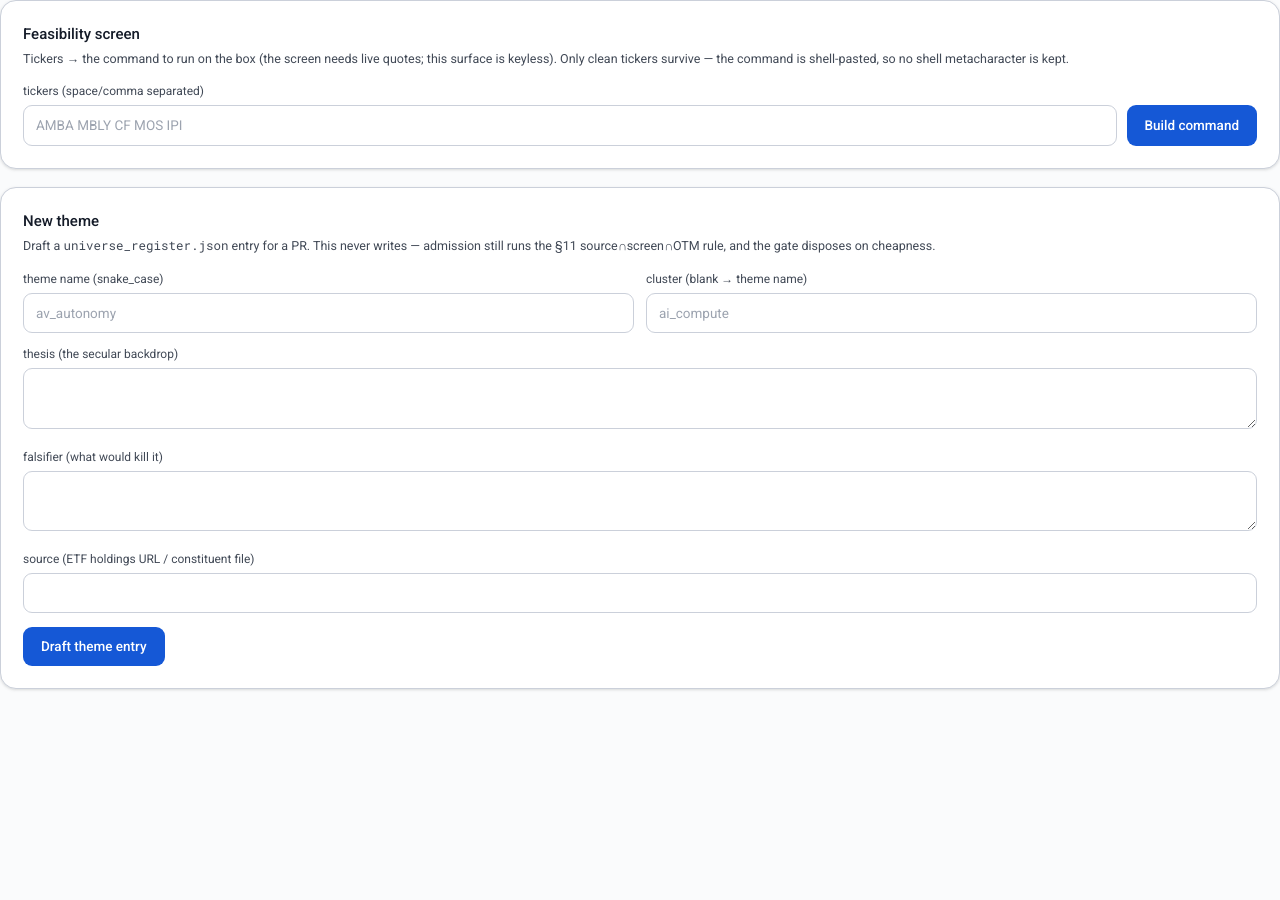
Curation › drafts the screen command via the POST endpoint
Step 1. Type "amba mbly $(x)" into the field with placeholder "AMBA MBLY CF MOS IPI" → (570, 125), box 23,105 -> 1116,146
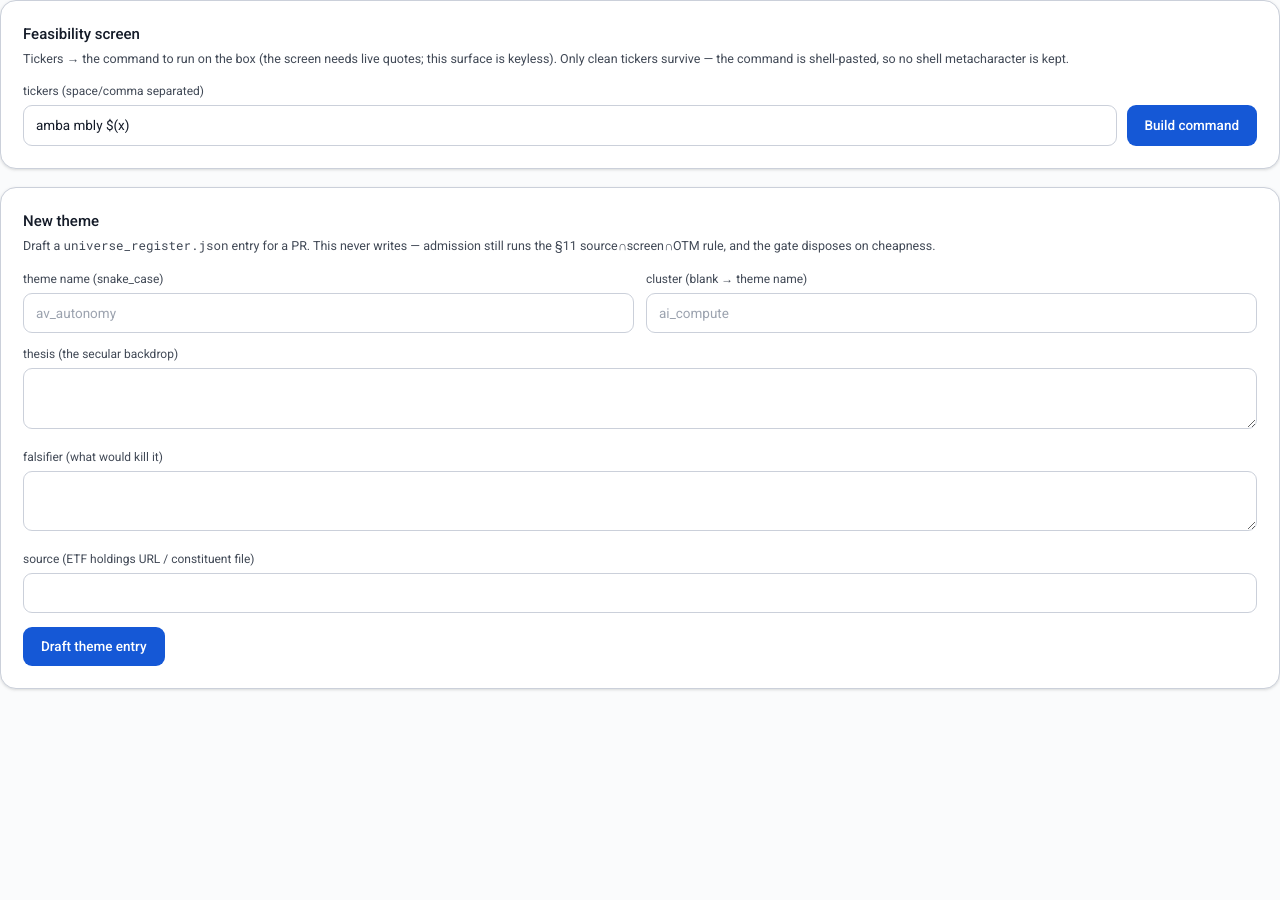
Step 2. Click the button "Build command" → click(1192, 125), box 1126,105 -> 1257,146
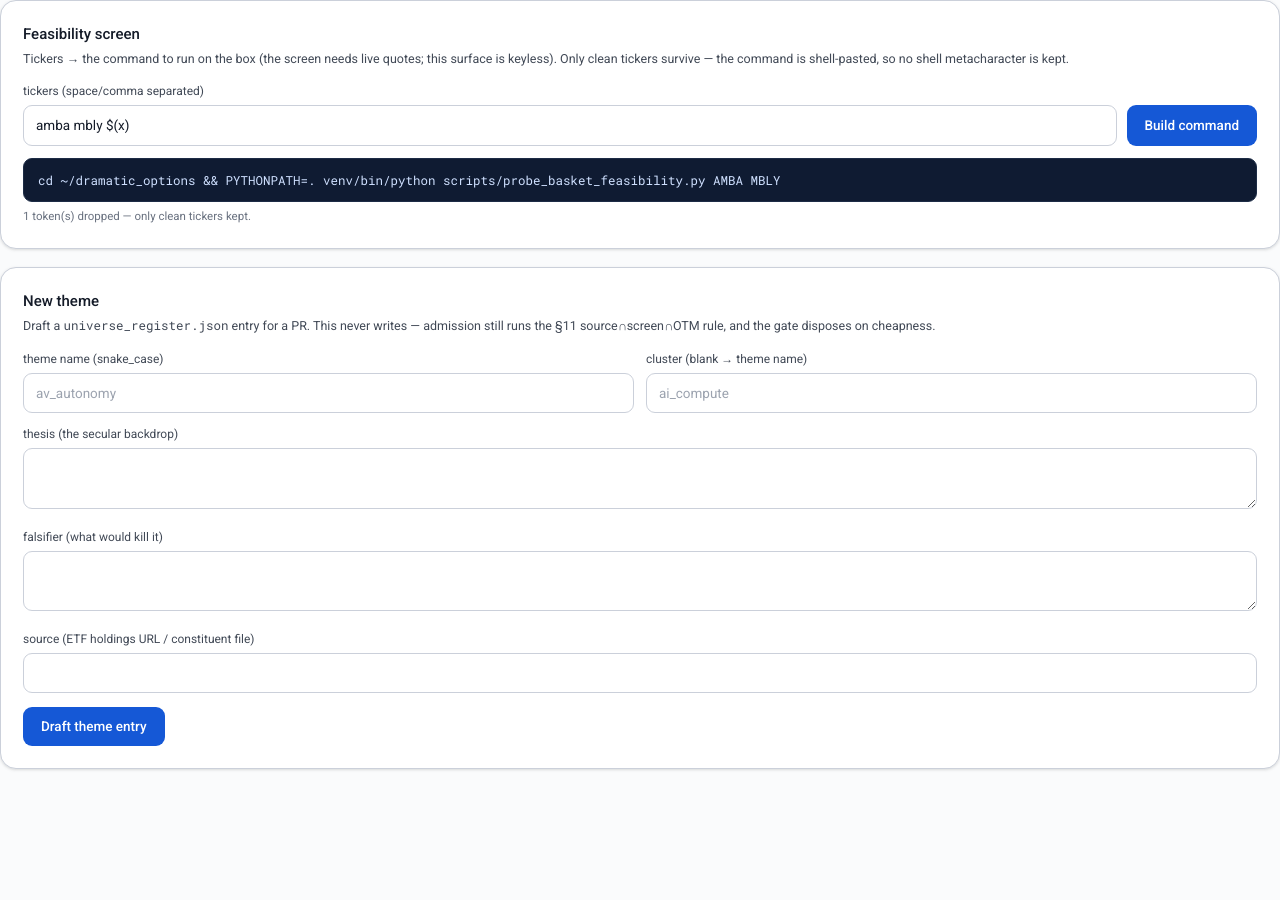
Now the text "probe_basket_feasibility.py AMBA MBLY" is shown, box 38,172 -> 781,188
